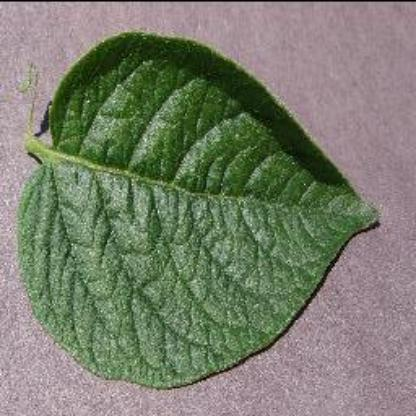Healthy-plant: (15, 21, 372, 387)
